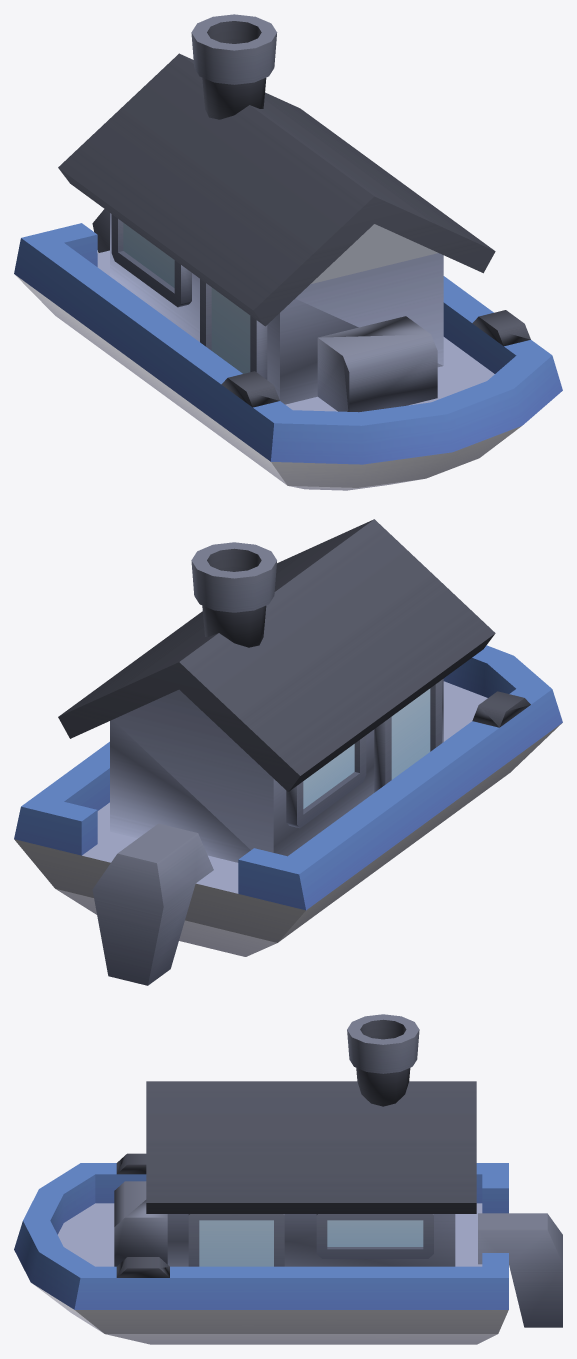
The model's file is house_boat_2.glb.
3 renders of one model, top to bottom at view 1: azimuth 30°, elevation 25°; view 2: azimuth 150°, elevation 25°; view 3: azimuth 270°, elevation 25°, orthographic. The views are drawn at different scales.
Visible parts, largest first — view 1: boat-house-c; view 2: boat-house-c; view 3: boat-house-c.
Boxes of the visible parts, x1,y1,x2,y2 form: boat-house-c: (14,14,562,490); boat-house-c: (14,519,562,985); boat-house-c: (14,1014,562,1344).
Bounding box in the file's own units: 2.68 × 3 × 5.15.
1 material, 1 textured.
